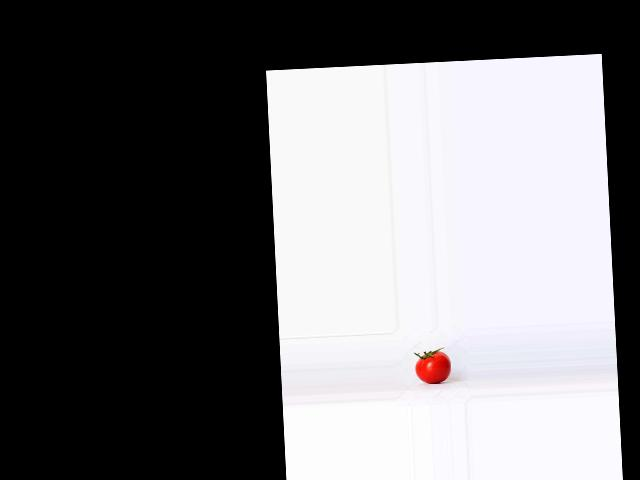tomato: (415, 351, 452, 384)
